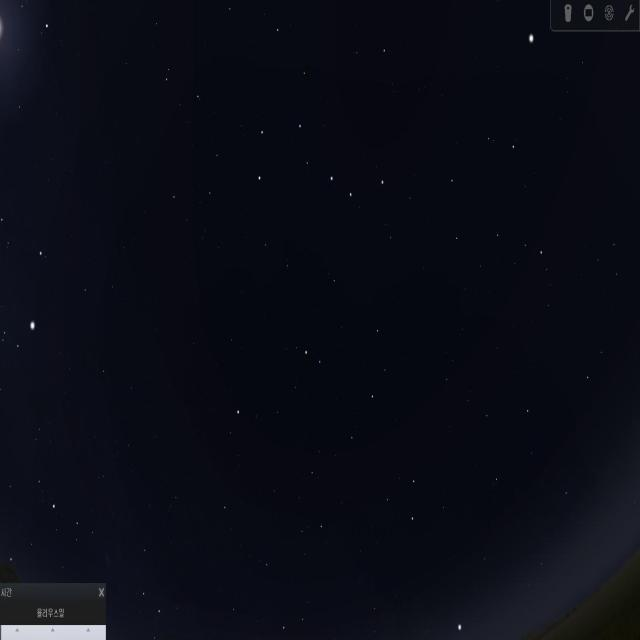ursa_major: (253, 111, 384, 219)
